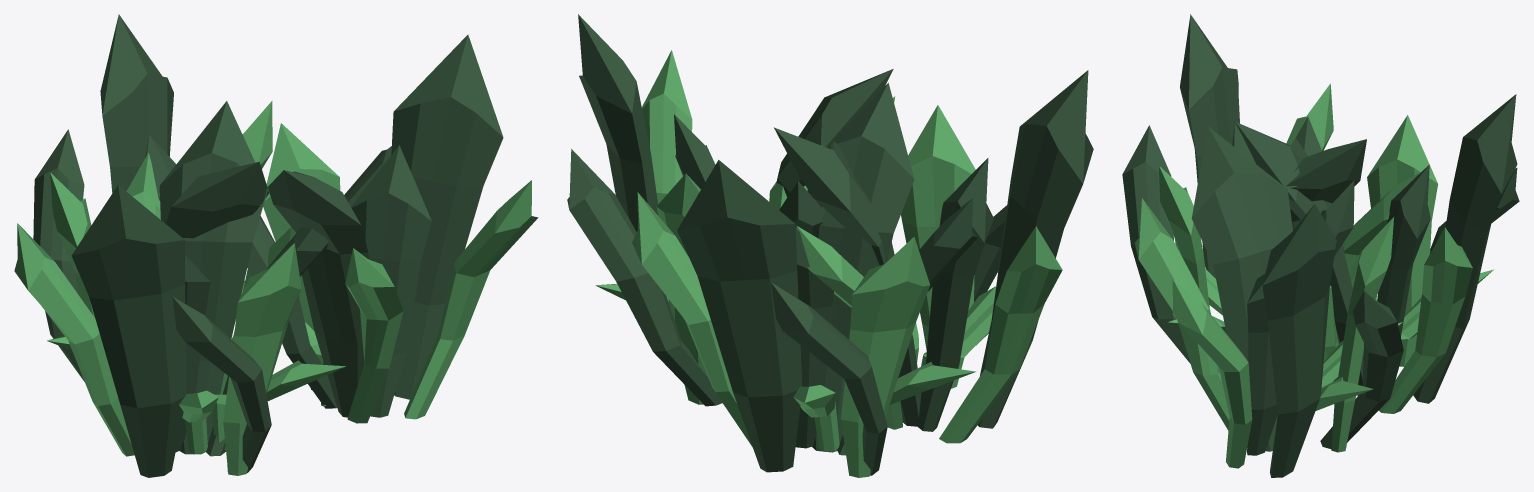
File: Grass01.fbx
The picture shows the model from 3 angles, left to right: view 1: azimuth 30°, elevation 25°; view 2: azimuth 150°, elevation 25°; view 3: azimuth 270°, elevation 25°; orthographic projection. The views are drawn at different scales.
Parts seen in each view (by area): view 1: Grass01; view 2: Grass01; view 3: Grass01.
Part boxes in pixels (<box>): Grass01: <box>14,14,538,477</box>; Grass01: <box>567,14,1093,477</box>; Grass01: <box>1122,14,1519,477</box>.
Size of the model in its own units: 62.96 by 43.16 by 50.68.
